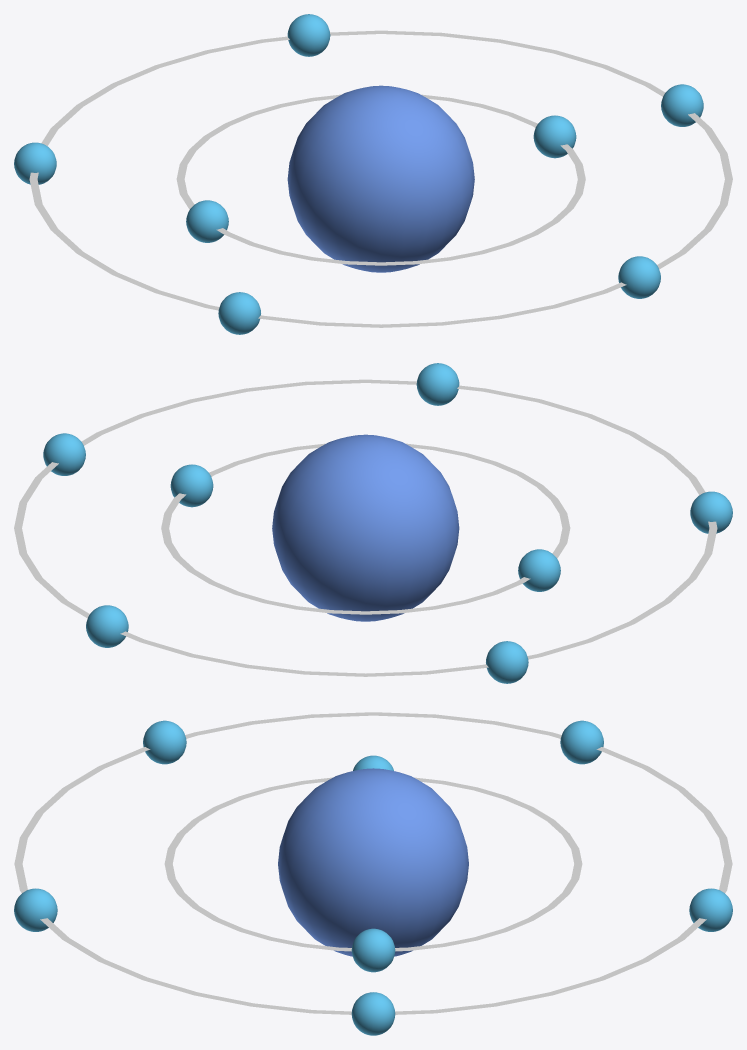
File: nitrogen_atom.glb
3 views of the same model, one above another, from view 1: azimuth 30°, elevation 25°; view 2: azimuth 150°, elevation 25°; view 3: azimuth 270°, elevation 25° (orthographic). The views are drawn at different scales.
Parts seen in each view (by area): view 1: nucleus_node, shell_ring_1, shell_ring_0, electron_node_1_2, electron_node_1_4, electron_node_1_1, electron_node_0_1, electron_node_0_0, electron_node_1_0, electron_node_1_3; view 2: nucleus_node, shell_ring_1, shell_ring_0, electron_node_1_1, electron_node_1_3, electron_node_1_4, electron_node_0_1, electron_node_0_0, electron_node_1_0, electron_node_1_2; view 3: nucleus_node, shell_ring_1, shell_ring_0, electron_node_1_0, electron_node_0_0, electron_node_1_2, electron_node_1_3, electron_node_1_1, electron_node_1_4.
Part boxes in pixels (x1,y1,x2,y2): nucleus_node: [287, 85, 474, 272]; shell_ring_1: [29, 30, 732, 327]; shell_ring_0: [176, 94, 585, 265]; electron_node_1_2: [218, 292, 260, 334]; electron_node_1_4: [287, 14, 330, 56]; electron_node_1_1: [618, 256, 660, 298]; electron_node_0_1: [186, 200, 228, 242]; electron_node_0_0: [533, 115, 576, 158]; electron_node_1_0: [661, 84, 703, 126]; electron_node_1_3: [14, 142, 56, 184]; nucleus_node: [272, 434, 459, 621]; shell_ring_1: [14, 379, 717, 676]; shell_ring_0: [161, 443, 570, 614]; electron_node_1_1: [416, 363, 459, 405]; electron_node_1_3: [486, 641, 528, 683]; electron_node_1_4: [86, 605, 128, 647]; electron_node_0_1: [518, 549, 560, 591]; electron_node_0_0: [170, 464, 213, 507]; electron_node_1_0: [43, 433, 85, 475]; electron_node_1_2: [690, 491, 732, 533]; nucleus_node: [278, 768, 468, 956]; shell_ring_1: [14, 712, 732, 1014]; shell_ring_0: [164, 777, 582, 951]; electron_node_1_0: [351, 992, 395, 1035]; electron_node_0_0: [351, 928, 395, 972]; electron_node_1_2: [143, 720, 186, 764]; electron_node_1_3: [560, 720, 603, 764]; electron_node_1_1: [14, 888, 57, 931]; electron_node_1_4: [689, 888, 732, 931].
Bounding box in the file's own units: 2.7 × 0.7 × 2.63.
